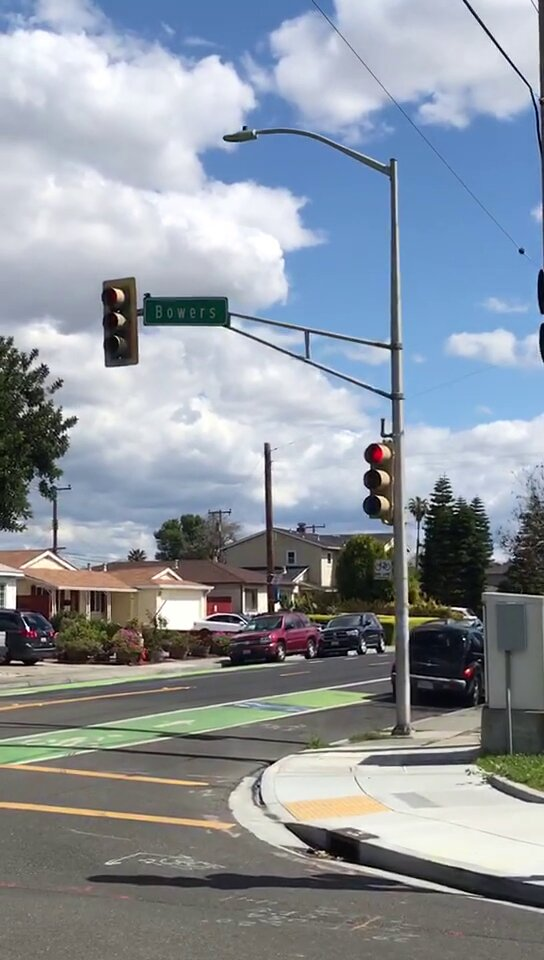red_light: (363, 441, 388, 518)
